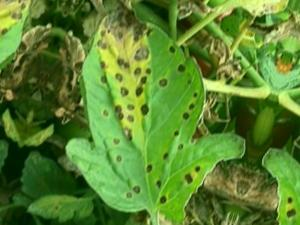Tomato Septoria leaf spot: (35, 0, 278, 225)
